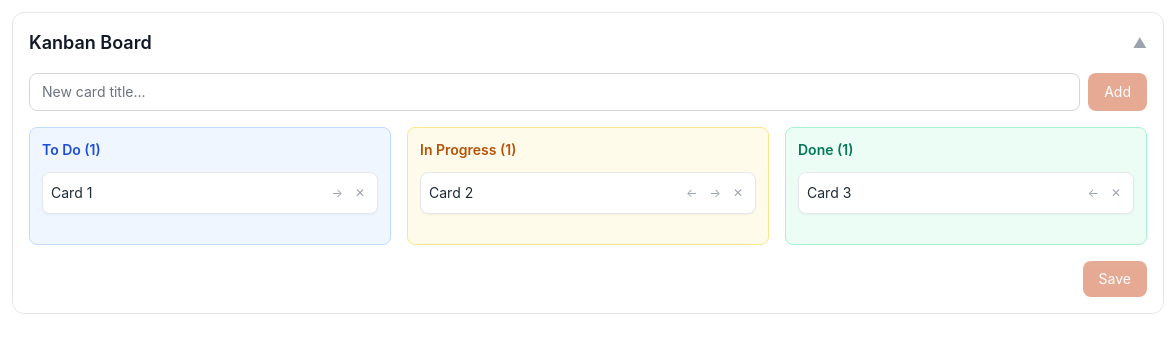
Scenario: KanbanBoard › moves card left
The width and height of the screenshot is (1176, 363).
Note: Card 2 is in_progress, has move left button
Click the button titled "Move left" in the row of "Card 2" at (692, 193), box [682,181,702,205]
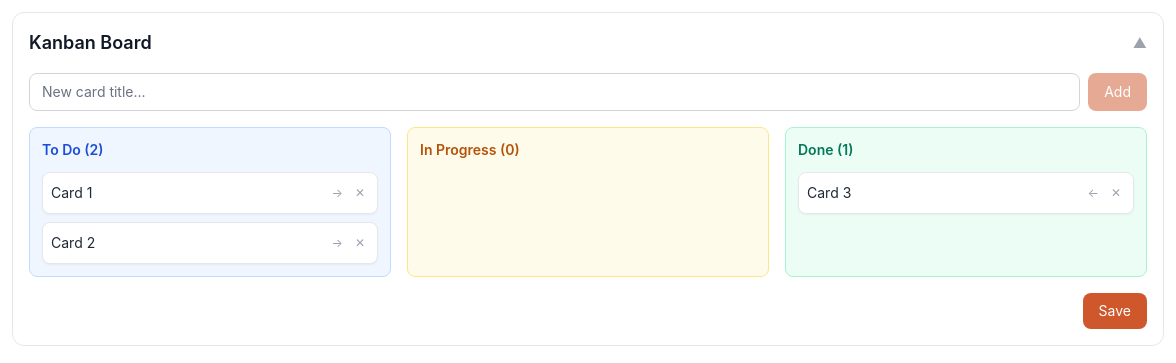
expect the heading "To Do (2)" is shown: met, box [42,141,104,158]
